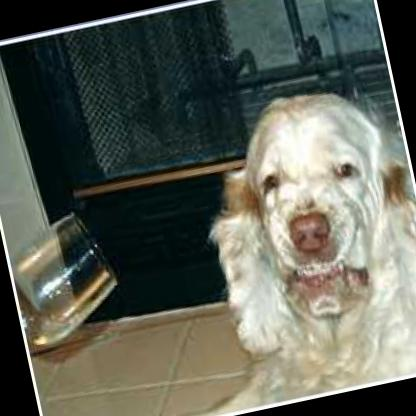clumber: (102, 67, 416, 416)
